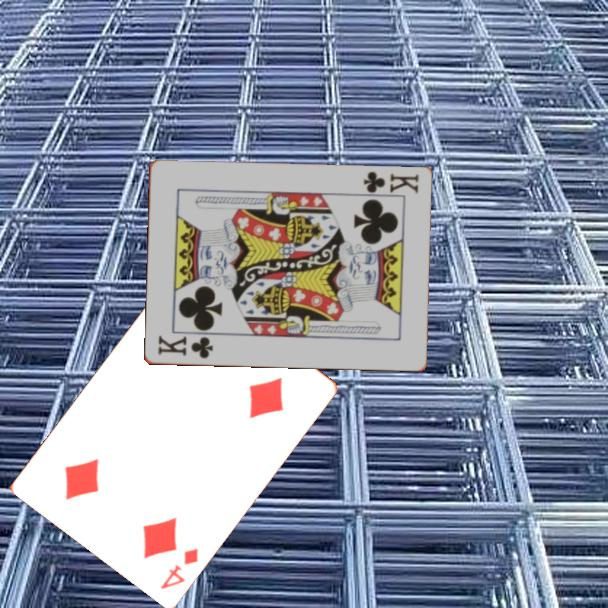c13: (154, 332, 216, 362), (360, 168, 421, 196)
d04: (157, 544, 201, 592)
